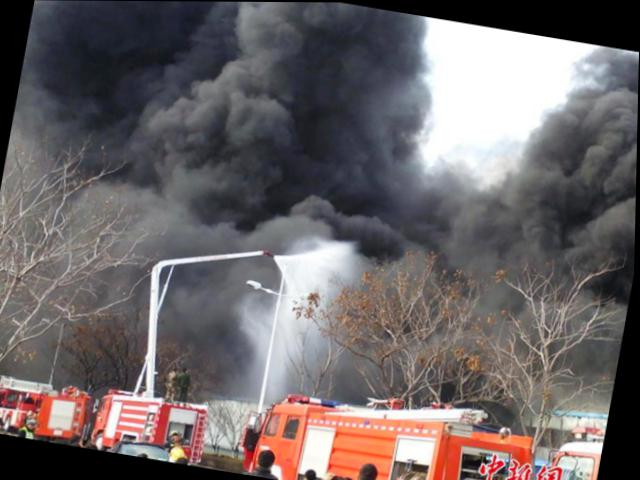smoke: (167, 1, 401, 213), (18, 0, 191, 133), (566, 58, 638, 243), (369, 84, 428, 242), (161, 185, 294, 244), (518, 137, 574, 248), (424, 188, 515, 248)
